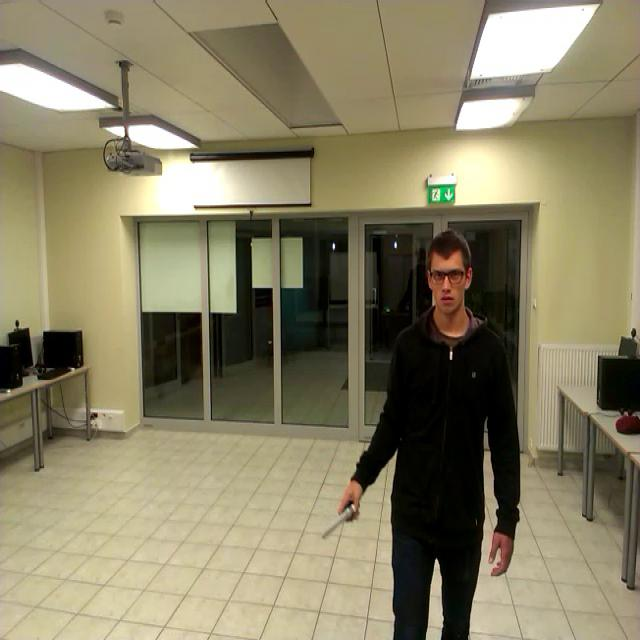handgun: (318, 492, 364, 544)
